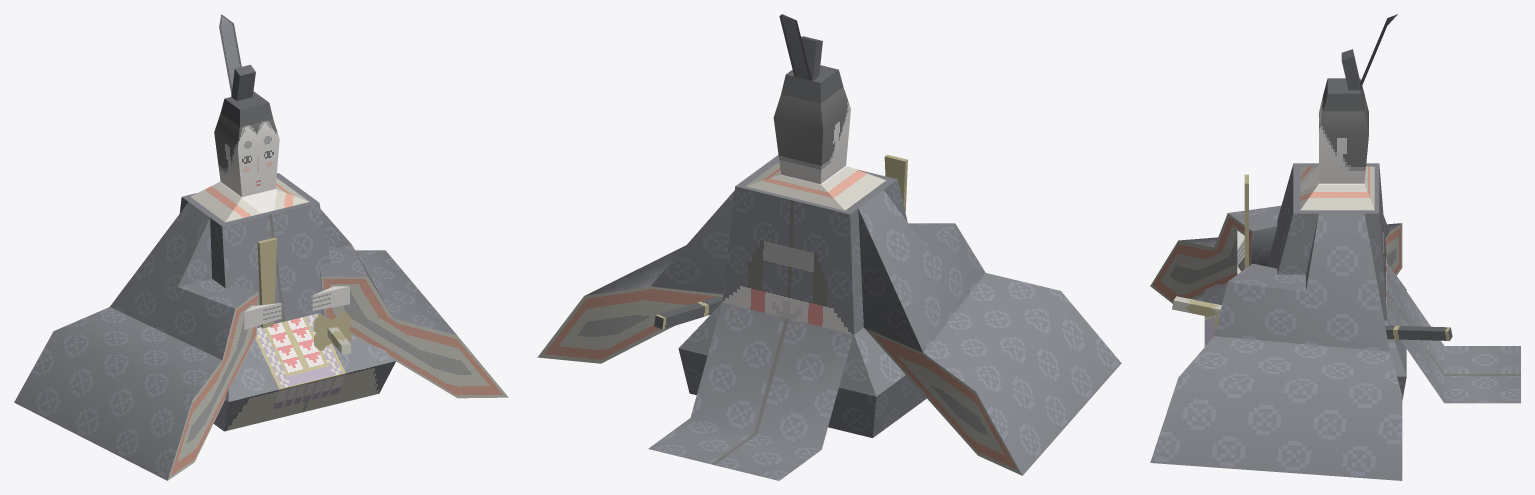
File: 0299_Dairi_Doll.glb
The picture shows the model from 3 angles, left to right: view 1: azimuth 30°, elevation 25°; view 2: azimuth 150°, elevation 25°; view 3: azimuth 270°, elevation 25°; orthographic projection. The views are drawn at different scales.
Parts seen in each view (by area): view 1: part_0; view 2: part_0; view 3: part_0.
Boxes of the visible parts, left/top/right/bottom form: part_0: left=14, top=14, right=508, bottom=480; part_0: left=537, top=14, right=1121, bottom=480; part_0: left=1150, top=14, right=1520, bottom=480.
Bounding box in the file's own units: 0.3863 × 0.3051 × 0.2843.
1 material, 1 textured.
